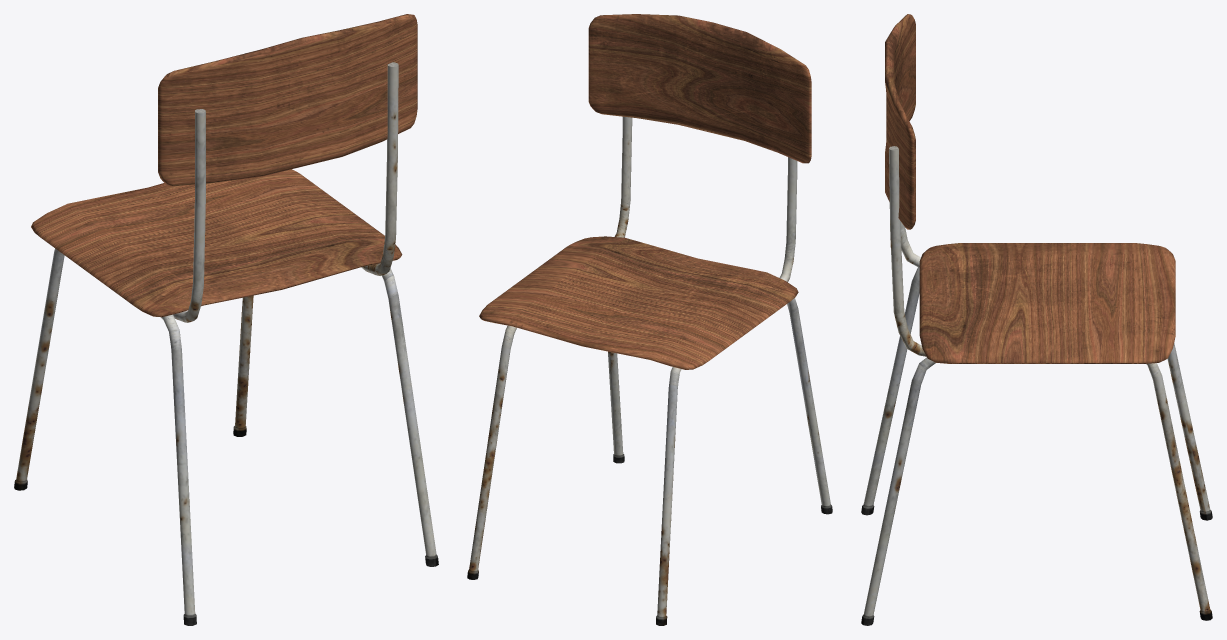
Rendered from Chair_A.fbx.
The picture shows the model from 3 angles, left to right: view 1: azimuth 30°, elevation 25°; view 2: azimuth 150°, elevation 25°; view 3: azimuth 270°, elevation 25°; orthographic projection. The views are drawn at different scales.
Parts seen in each view (by area): view 1: Chair_A; view 2: Chair_A; view 3: Chair_A.
Part boxes in pixels (box(x1,y1,x2,y2)): Chair_A: box(14, 14, 438, 625); Chair_A: box(467, 14, 832, 625); Chair_A: box(861, 14, 1212, 625).
Bounding box in the file's own units: 0.6644 × 1.33 × 0.8303.
